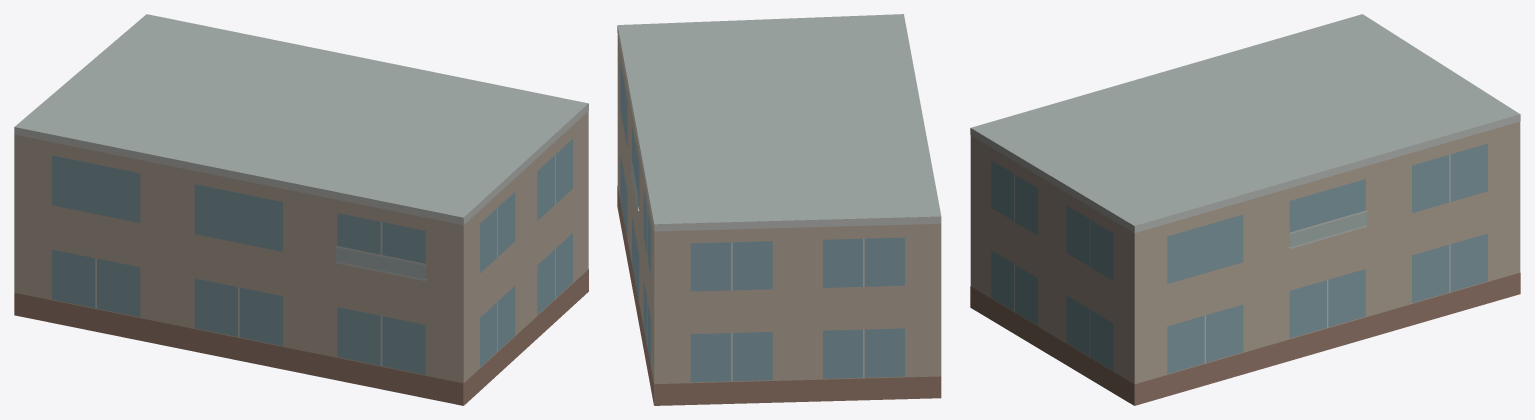
Rendered from survey-upis-32836901.glb.
The picture shows the model from 3 angles, left to right: view 1: azimuth 30°, elevation 25°; view 2: azimuth 150°, elevation 25°; view 3: azimuth 270°, elevation 25°; orthographic projection. The views are drawn at different scales.
Visible parts, largest first — view 1: survey-upis-32836901.tmp; view 2: survey-upis-32836901.tmp; view 3: survey-upis-32836901.tmp.
Part boxes in pixels (box(x1,y1,x2,y2)): survey-upis-32836901.tmp: box(14, 14, 588, 405); survey-upis-32836901.tmp: box(617, 14, 941, 405); survey-upis-32836901.tmp: box(970, 14, 1520, 405).
Bounding box in the file's own units: 15.44 × 6.1 × 16.92.
